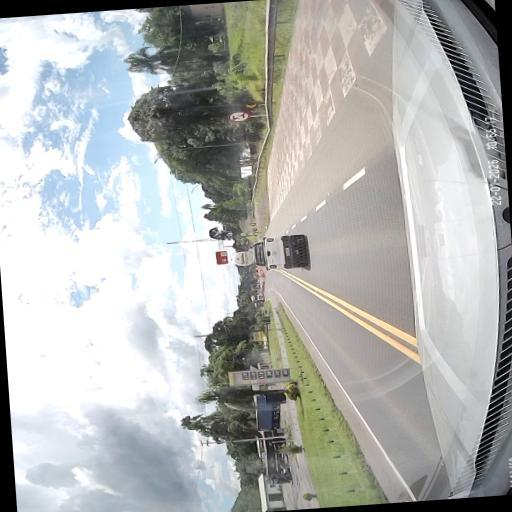R-6a: (228, 110, 250, 122)
